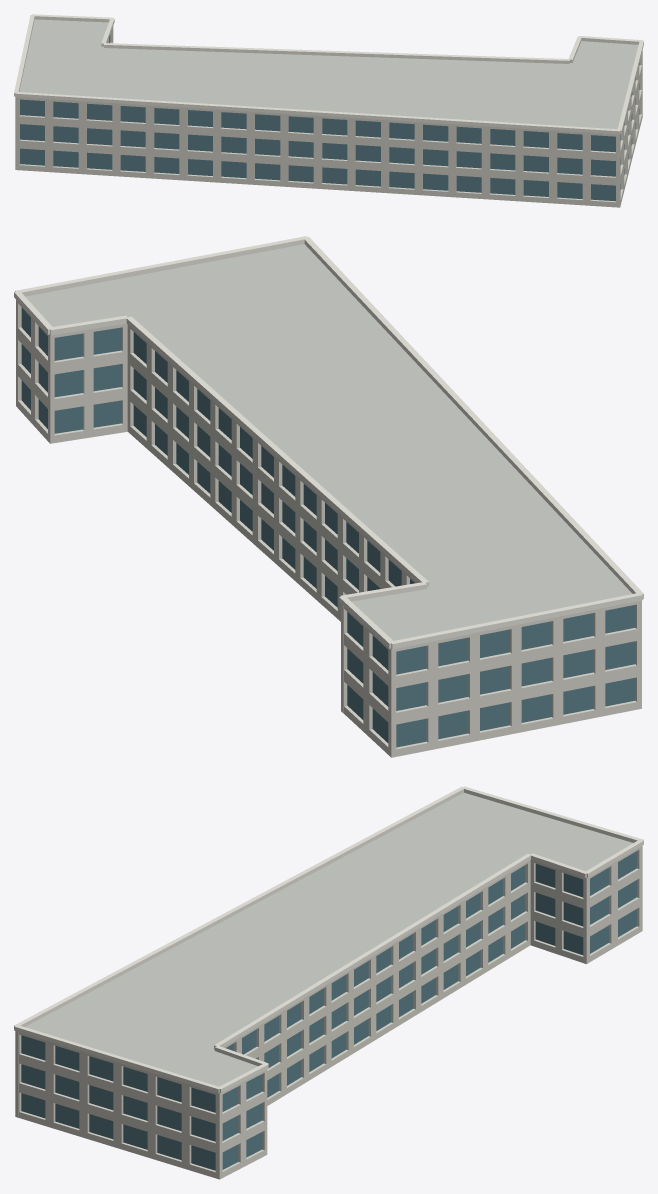
The model's file is sb_1556523921.far.glb.
3 renders of one model, top to bottom at view 1: azimuth 30°, elevation 25°; view 2: azimuth 150°, elevation 25°; view 3: azimuth 270°, elevation 25°, orthographic. The views are drawn at different scales.
Parts seen in each view (by area): view 1: roof, wall, glass, trim; view 2: roof, wall, glass, trim; view 3: roof, wall, glass, trim.
Boxes of the visible parts, x1,y1,x2,y2 form: roof: [19, 19, 638, 129]; wall: [15, 26, 642, 207]; glass: [20, 35, 639, 201]; trim: [14, 14, 643, 134]; roof: [25, 244, 632, 640]; wall: [16, 300, 641, 757]; glass: [21, 307, 635, 747]; trim: [14, 236, 643, 649]; roof: [25, 792, 632, 1086]; wall: [15, 846, 642, 1179]; glass: [21, 851, 636, 1170]; trim: [14, 786, 643, 1093].
Bounding box in the file's own units: 69.64 × 9.74 × 61.19.
